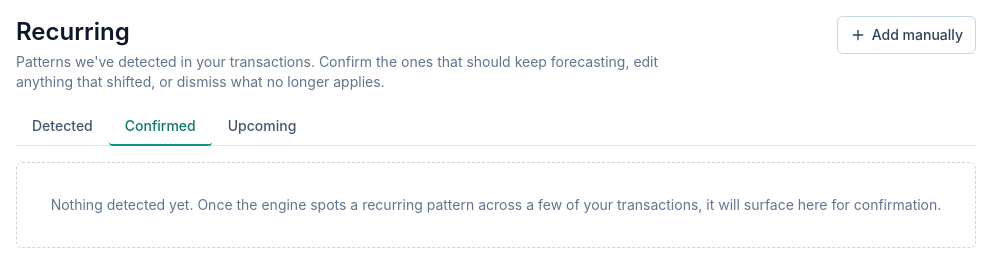
Scenario: RecurringPage › Upcoming tab swaps to upcoming-bills list
The width and height of the screenshot is (993, 265).
Click the button with test id "recurring-tab-upcoming": click(262, 127) x1=212 y1=108 x2=312 y2=146
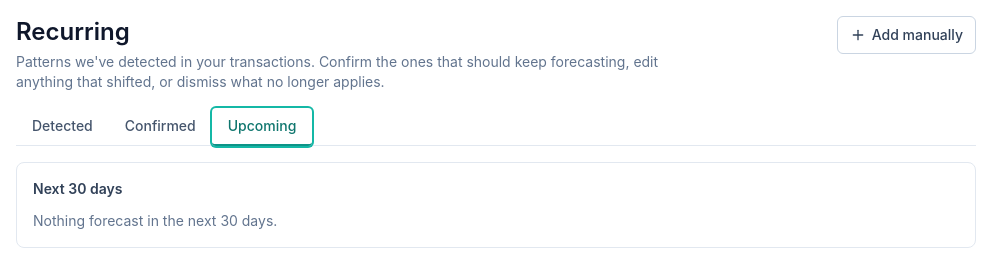
Check: the text "Nothing forecast in the next 30 days." is shown, box x1=33 y1=212 x2=277 y2=229
